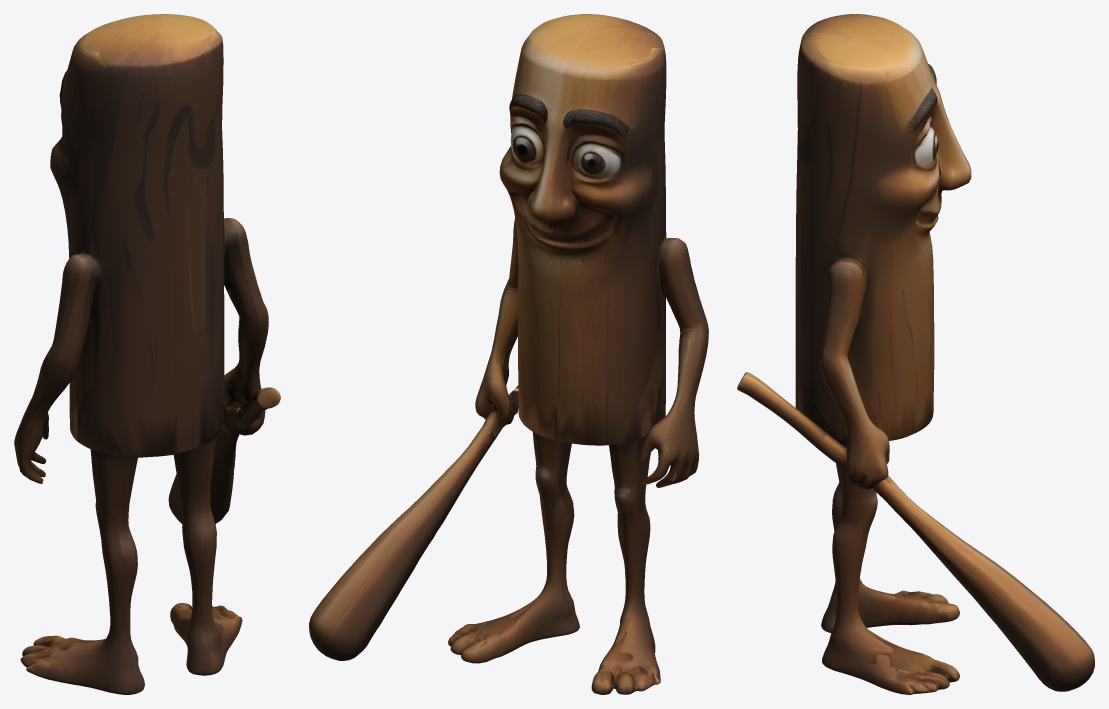
Rendered from TungTungTamburo.fbx.
The picture shows the model from 3 angles, left to right: view 1: azimuth 30°, elevation 25°; view 2: azimuth 150°, elevation 25°; view 3: azimuth 270°, elevation 25°; orthographic projection. The views are drawn at different scales.
Visible parts, largest first — view 1: TungTungTamburo; view 2: TungTungTamburo; view 3: TungTungTamburo.
Part boxes in pixels (bbox=[...]): TungTungTamburo: bbox=[14, 14, 280, 694]; TungTungTamburo: bbox=[309, 14, 708, 694]; TungTungTamburo: bbox=[737, 14, 1094, 694].
Bounding box in the file's own units: 2.49 × 5 × 2.66.
1 material, 1 textured.
